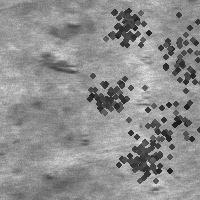rolled-in_scale: (107, 76, 200, 178), (127, 0, 200, 115), (109, 126, 173, 190), (30, 18, 98, 77), (75, 65, 137, 127), (95, 0, 151, 51)
